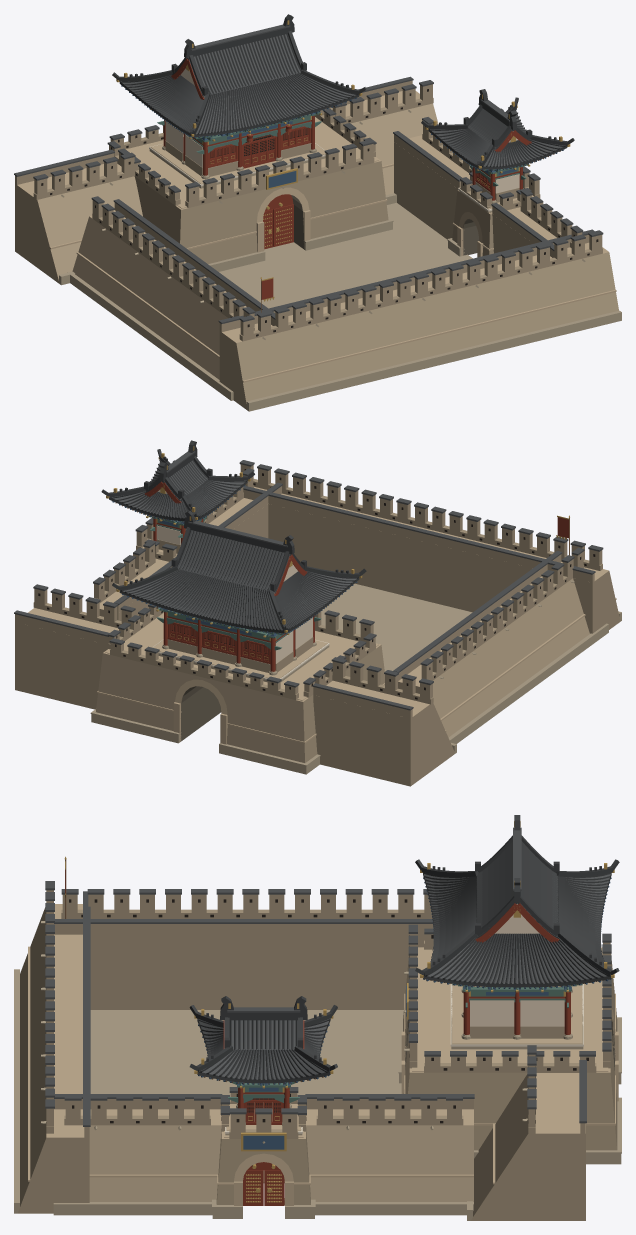
3 renders of one model, top to bottom at view 1: azimuth 30°, elevation 25°; view 2: azimuth 150°, elevation 25°; view 3: azimuth 270°, elevation 25°, orthographic. The views are drawn at different scales.
Visible parts, largest first — view 1: K05a; view 2: K05a; view 3: K05a.
Part boxes in pixels (left/top/right/bottom): K05a: left=14, top=14, right=621, bottom=411; K05a: left=14, top=440, right=621, bottom=786; K05a: left=14, top=815, right=621, bottom=1220.
Bounding box in the file's own units: 50.24 × 23.01 × 50.61.
